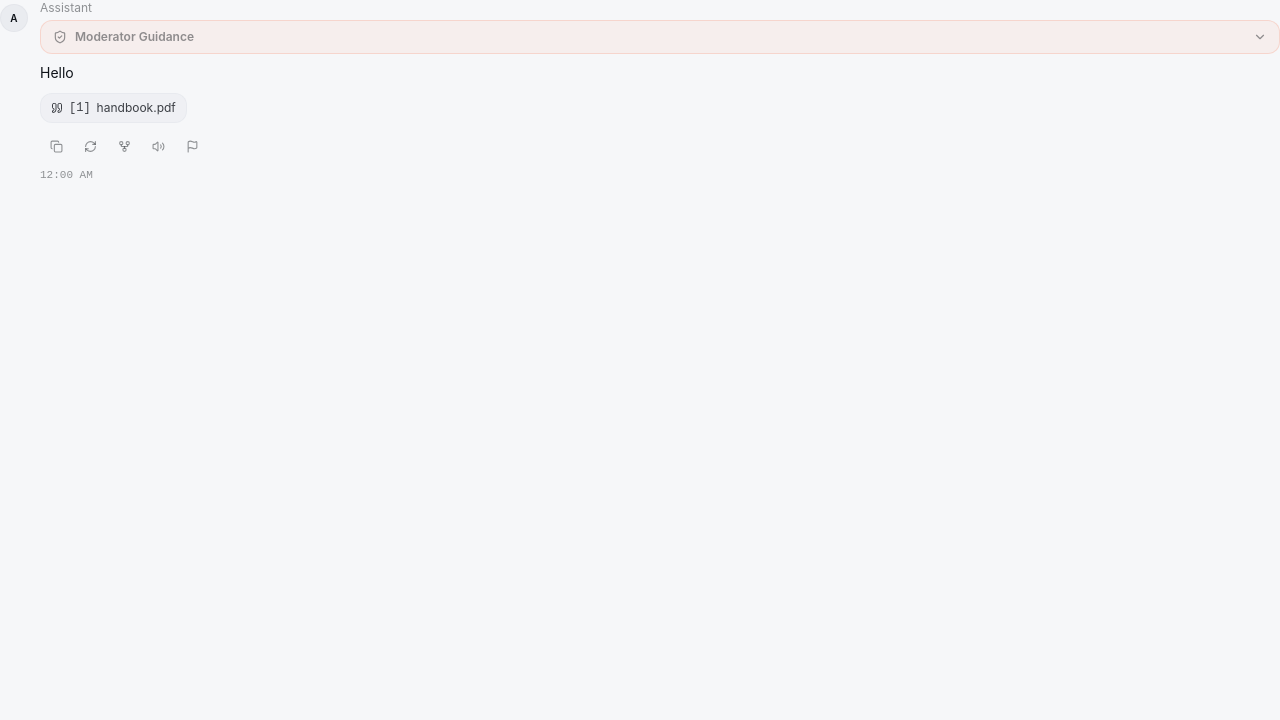
AssistantMessage › expands moderator guidance and opens document citation details
Click the button "Moderator Guidance".
click(134, 36)  # box x1=53 y1=29 x2=1267 y2=45
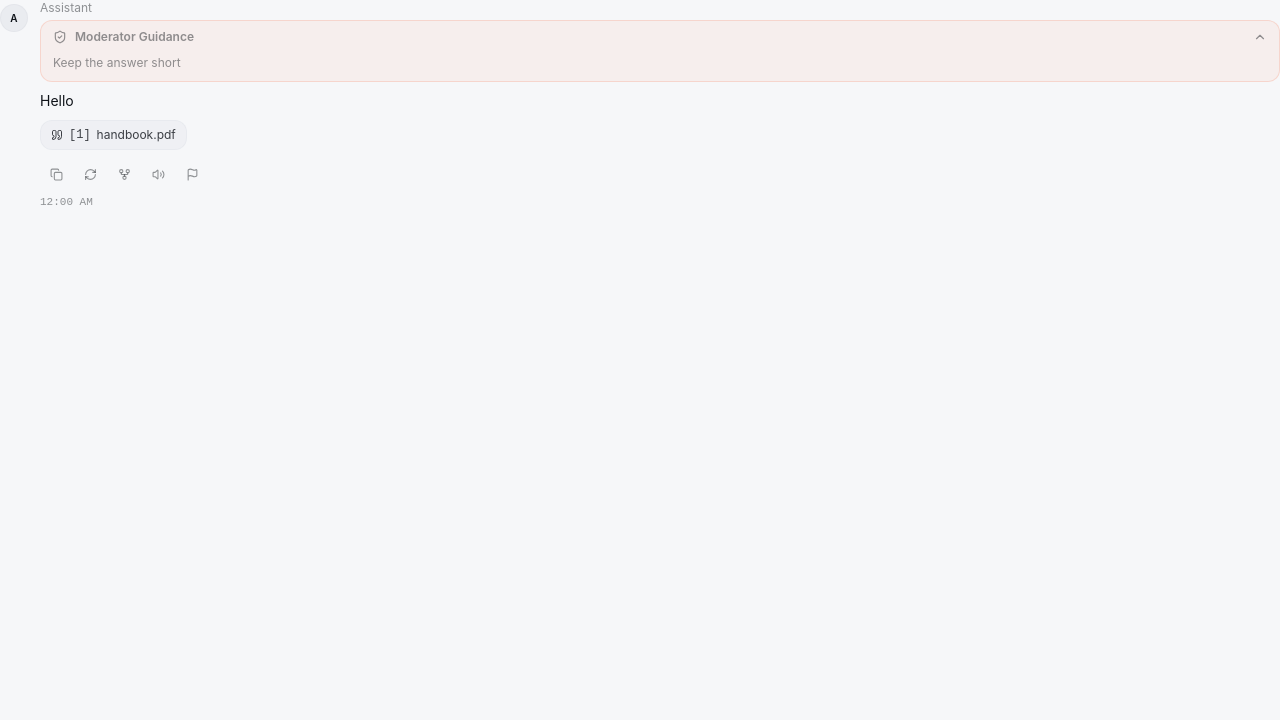
Result: the text "Keep the answer short" is shown at x1=53 y1=55 x2=181 y2=70
Click the button "[1] handbook.pdf".
click(113, 135)  # box x1=40 y1=120 x2=187 y2=150
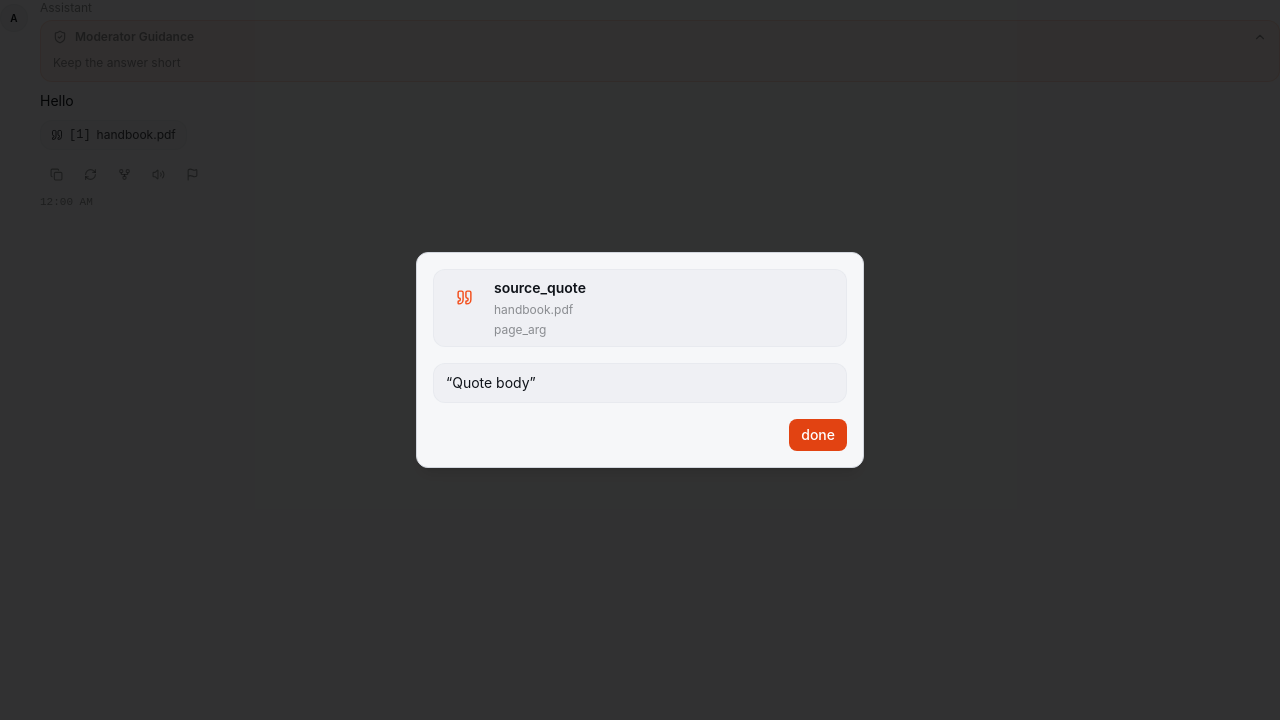
Expected: the text "handbook.pdf" is shown 2 times, x1=97 y1=127 x2=176 y2=143; x1=494 y1=302 x2=573 y2=317
Result: the heading "source_quote" is shown at x1=494 y1=279 x2=586 y2=296
Result: the text "“Quote body”" is shown at x1=433 y1=363 x2=847 y2=403
Click the button "done".
click(818, 435)  # box x1=789 y1=419 x2=847 y2=451
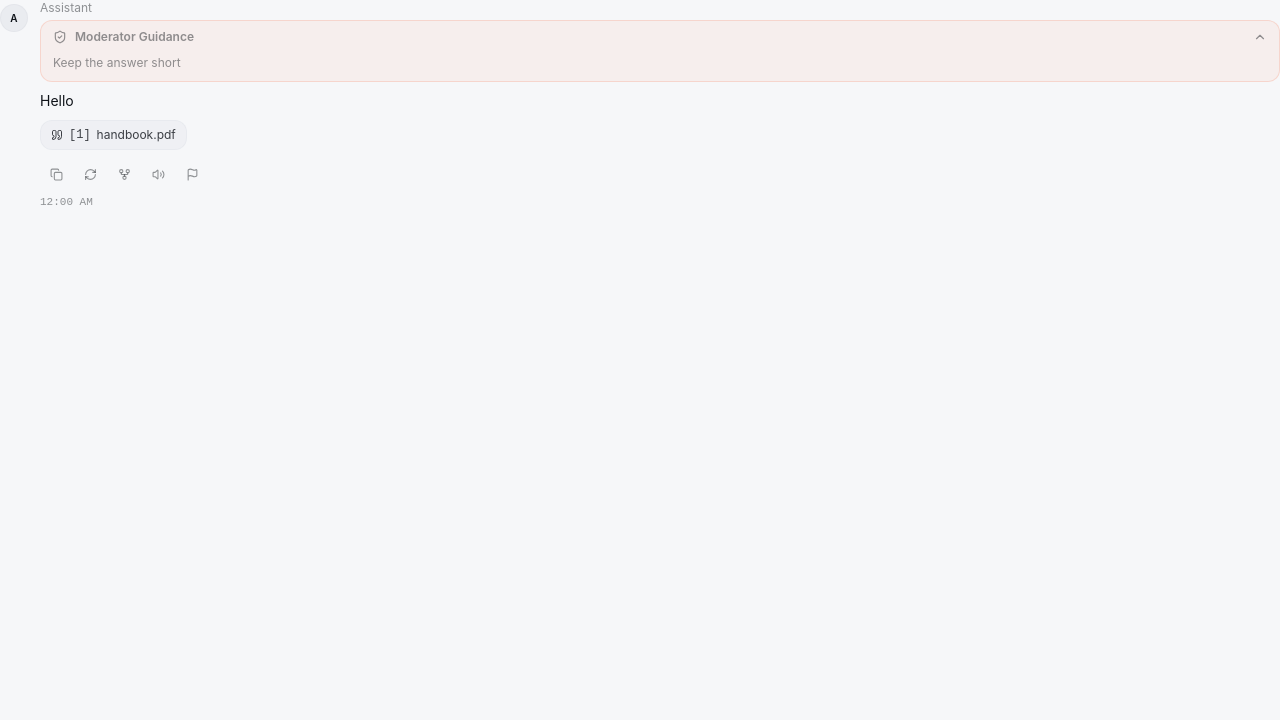
Result: the text "Quote body" is gone
